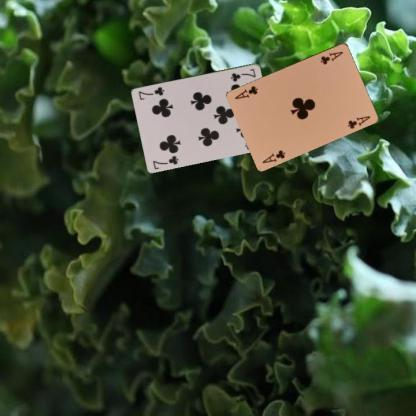7c: (150, 153, 180, 171), (228, 66, 257, 82)
Ac: (317, 48, 344, 66), (260, 147, 286, 164)
